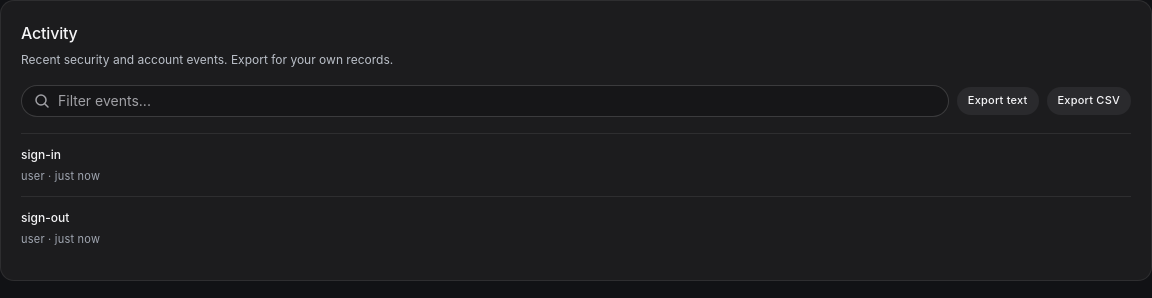
ActivityPane › renders rows and empty state on mismatched search
Type "nomatch" into the search field with test id "activity-search" at (497, 101), box [58,90,936,111]
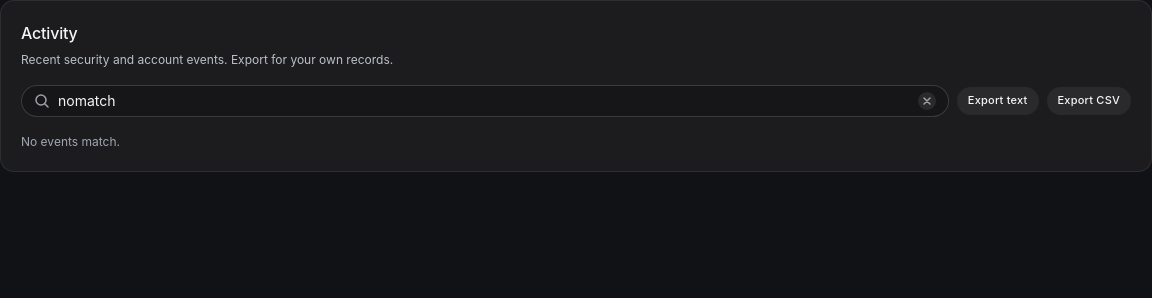
expect the list item with test id "activity-empty" is shown: met, box [21,134,120,149]
